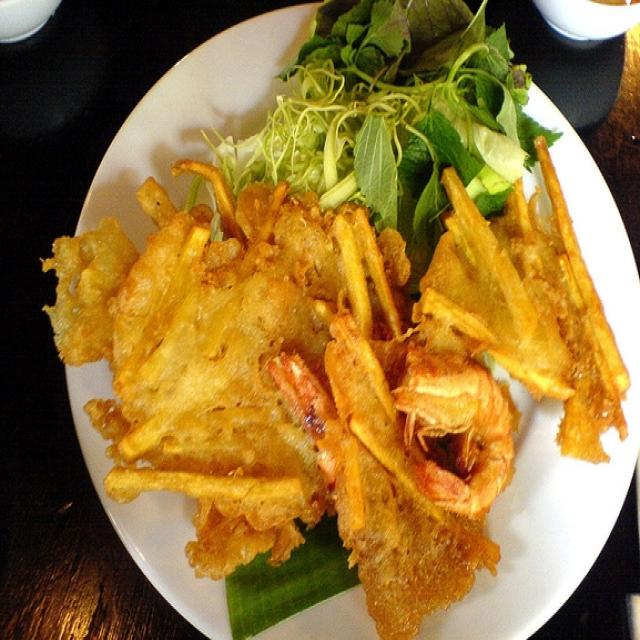炸货点心: (48, 13, 616, 626)
熟制海鲜: (48, 13, 616, 626)
